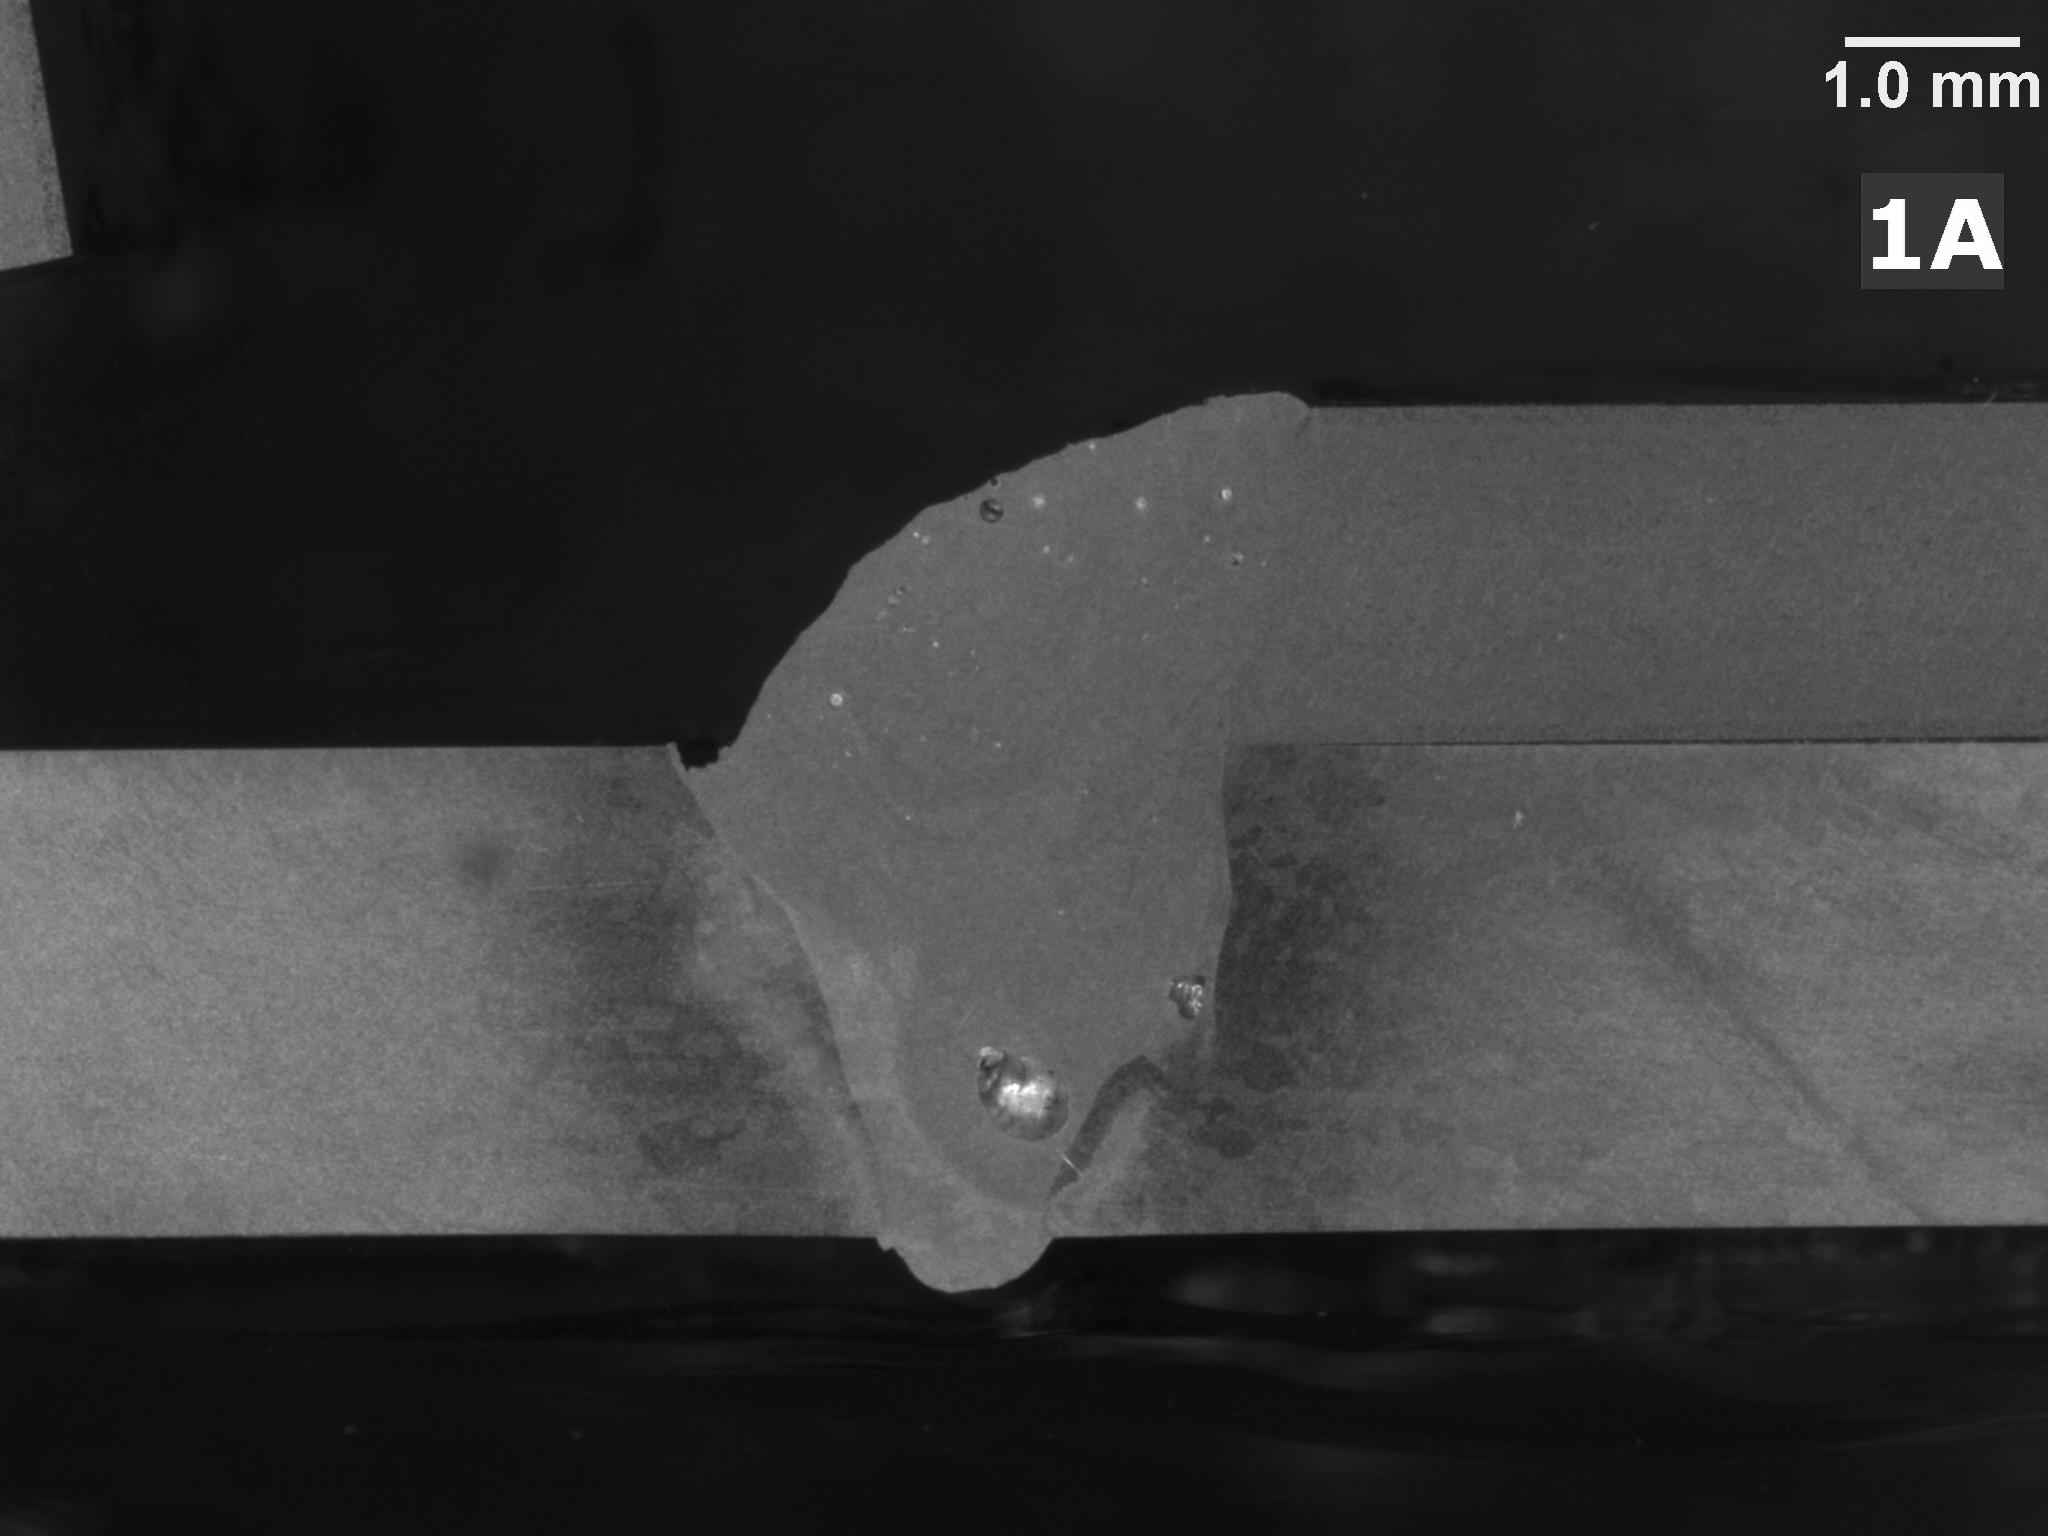Scale-bar: (1817, 26, 2048, 126)
